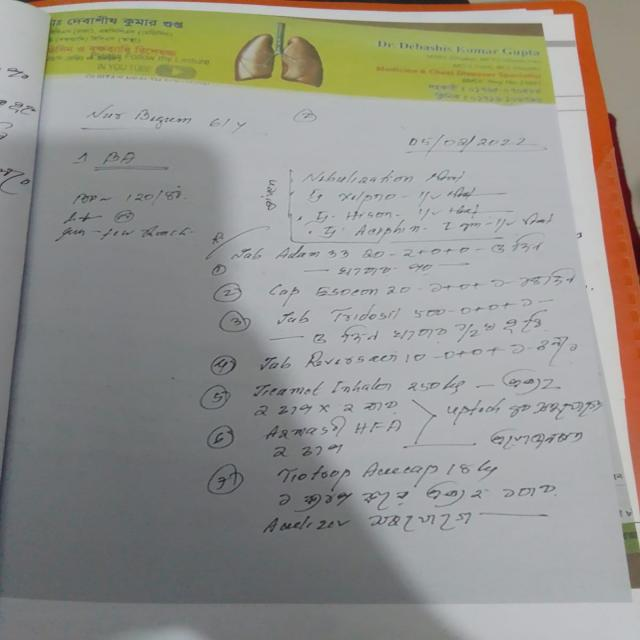Aciphin: (354, 221, 424, 239)
Adam 33: (268, 242, 358, 263)
Azmasol HFA: (257, 416, 405, 441)
Esocon: (312, 281, 384, 301)
Hisone: (342, 207, 399, 222)
Nebulization: (291, 163, 417, 189)
Reversair: (299, 346, 402, 372)
Ticamet Inhaler: (247, 377, 397, 400)
Tiofoop Acecap: (272, 462, 445, 487)
Tridosil: (326, 305, 407, 325)
Xelpro: (333, 188, 406, 207)
